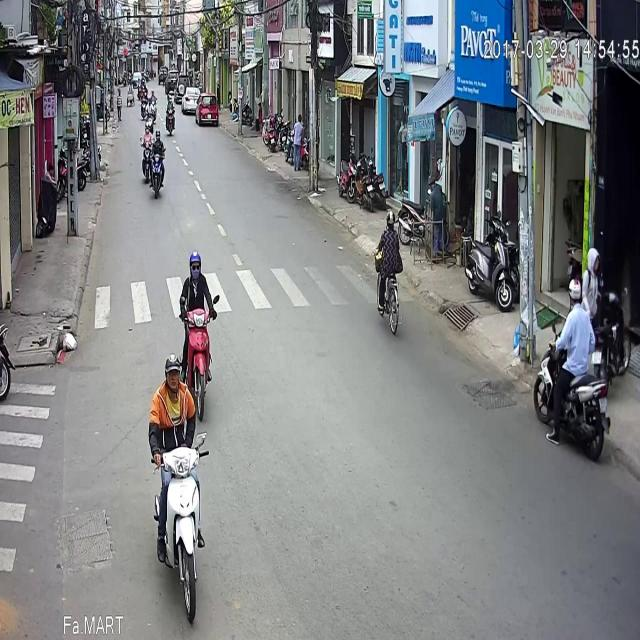bicycle: (373, 151, 399, 278)
car: (195, 34, 219, 69)
motorcycle: (152, 291, 207, 609), (533, 220, 611, 403), (178, 190, 220, 363), (149, 71, 166, 142), (140, 62, 154, 123), (165, 36, 175, 78)
